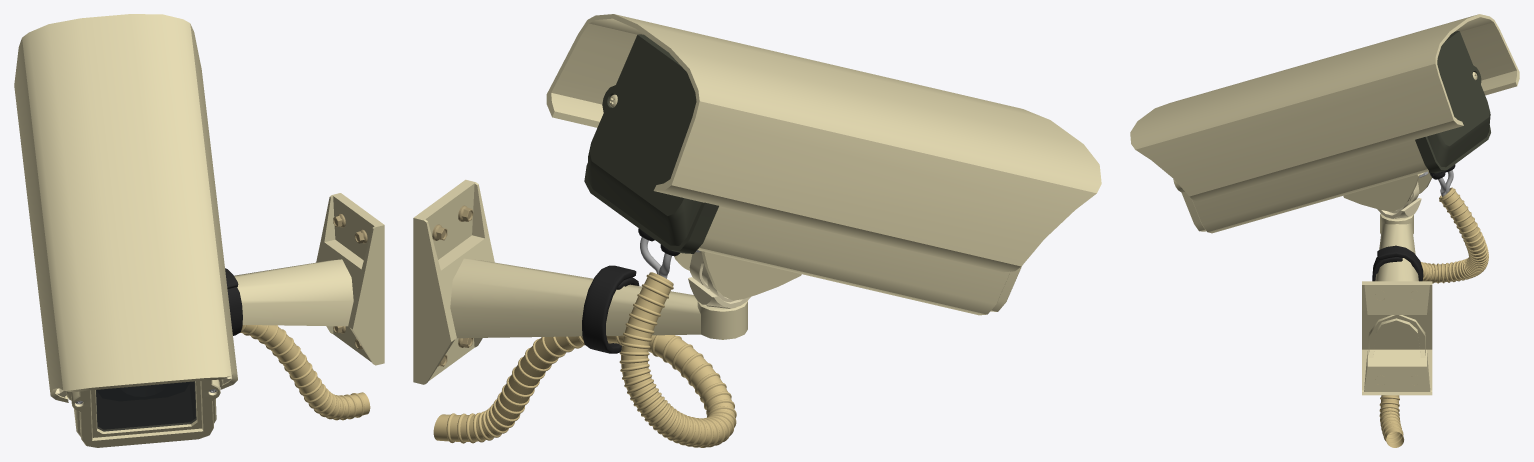
File: camera.glb
3 views of the same model, side by side, from view 1: azimuth 30°, elevation 25°; view 2: azimuth 150°, elevation 25°; view 3: azimuth 270°, elevation 25° (orthographic). The views are drawn at different scales.
Visible parts, largest first — view 1: camera; view 2: camera; view 3: camera.
Part boxes in pixels (x1,y1,x2,y2): camera: (14,14,384,447); camera: (413,14,1101,447); camera: (1130,14,1519,447).
Size of the model in its own units: 21.72 by 20.59 by 21.48.
